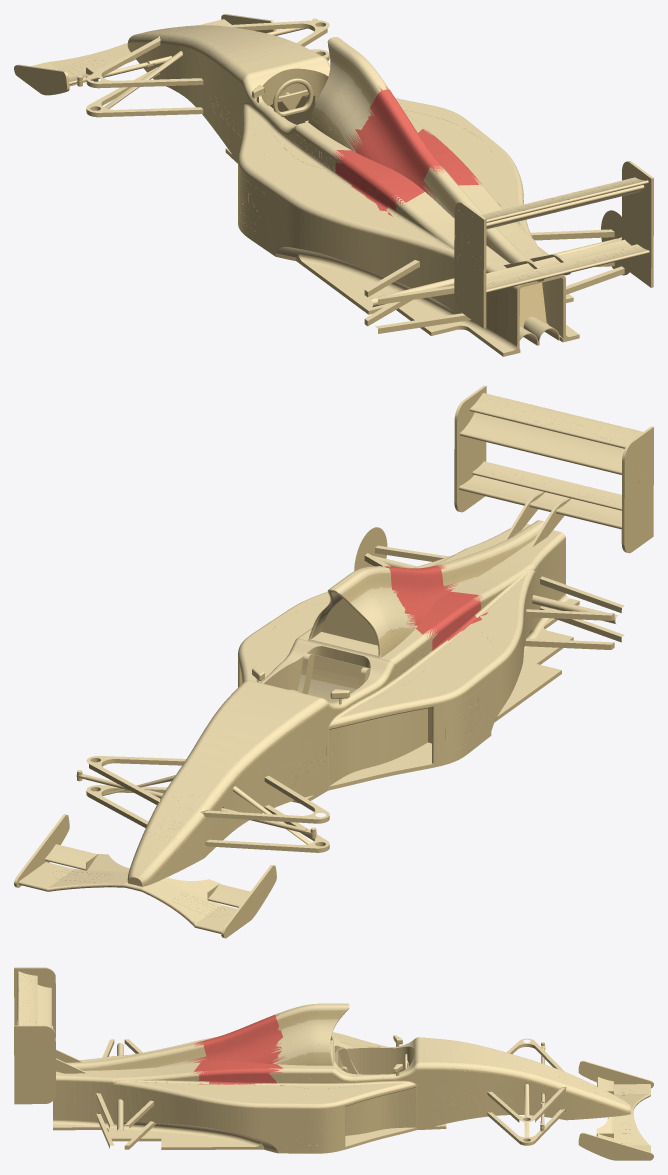
The model's file is jordan_191_candidate_chassis.glb.
3 views of the same model, one above another, from view 1: azimuth 30°, elevation 25°; view 2: azimuth 150°, elevation 25°; view 3: azimuth 270°, elevation 25° (orthographic). The views are drawn at different scales.
Visible parts, largest first — view 1: chassis_055_body_gold_base, chassis_050_body_gold_light, chassis_041_body_gold_light, chassis_050_accent_red, chassis_038_body_gold_light, chassis_060_body_gold_base, chassis_062_body_gold_light, chassis_044_body_gold_base, chassis_060_body_gold_light, chassis_056_body_gold_base, chassis_052_body_gold_base, chassis_063_body_gold_base (+30 smaller); view 2: chassis_041_body_gold_light, chassis_050_body_gold_light, chassis_038_body_gold_light, chassis_055_body_gold_base, chassis_054_body_gold_base, chassis_005_body_gold_light, chassis_046_body_gold_base, chassis_060_body_gold_light, chassis_050_accent_red, chassis_045_body_gold_light, chassis_062_body_gold_light, chassis_060_body_gold_base (+27 smaller); view 3: chassis_054_body_gold_base, chassis_049_body_gold_base, chassis_041_body_gold_light, chassis_051_body_gold_base, chassis_049_accent_red, chassis_057_body_gold_base, chassis_049_body_gold_light, chassis_060_body_gold_light, chassis_051_body_gold_light, chassis_045_body_gold_base, chassis_042_body_gold_base, chassis_021_body_gold_light (+36 smaller).
Part boxes in pixels (x1,y1,x2,y2): chassis_055_body_gold_base: (238,117,517,344); chassis_050_body_gold_light: (244,37,559,284); chassis_041_body_gold_light: (139,25,524,246); chassis_050_accent_red: (336,86,478,202); chassis_038_body_gold_light: (31,19,524,248); chassis_060_body_gold_base: (256,95,629,345); chassis_062_body_gold_light: (86,51,512,352); chassis_044_body_gold_base: (396,161,653,328); chassis_060_body_gold_light: (146,62,630,341); chassis_056_body_gold_base: (172,85,516,346); chassis_052_body_gold_base: (203,80,483,328); chassis_063_body_gold_base: (86,14,579,356); chassis_041_body_gold_light: (134,578,523,877); chassis_050_body_gold_light: (52,521,560,879); chassis_038_body_gold_light: (18,558,524,931); chassis_055_body_gold_base: (329,539,565,763); chassis_054_body_gold_base: (238,656,427,786); chassis_005_body_gold_light: (447,412,637,756); chassis_046_body_gold_base: (142,707,328,907); chassis_060_body_gold_light: (105,475,624,794); chassis_050_accent_red: (385,565,478,634); chassis_045_body_gold_light: (14,589,402,933); chassis_062_body_gold_light: (102,598,613,848); chassis_060_body_gold_base: (89,488,621,804); chassis_054_body_gold_base: (53,1081,417,1150); chassis_049_body_gold_base: (80,1010,630,1120); chassis_041_body_gold_light: (125,1032,630,1106); chassis_051_body_gold_base: (14,1026,384,1104); chassis_049_accent_red: (188,1015,284,1063); chassis_057_body_gold_base: (417,1085,535,1127); chassis_049_body_gold_light: (68,1004,565,1112); chassis_060_body_gold_light: (52,1025,545,1147); chassis_051_body_gold_light: (134,1034,419,1103); chassis_045_body_gold_base: (14,968,653,1160); chassis_042_body_gold_base: (269,1045,414,1082); chassis_021_body_gold_light: (56,1071,630,1142).
Size of what is drawn, in the model's own units: 1.44 by 0.9979 by 4.54.
